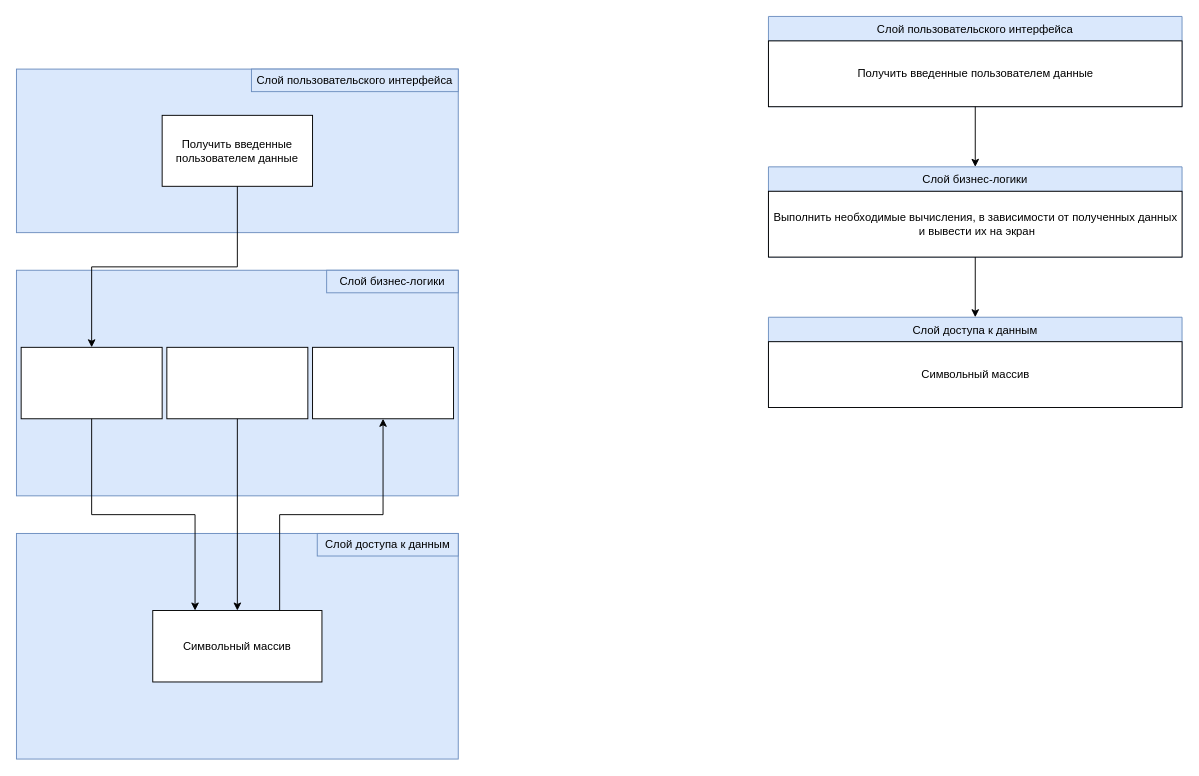
This 1199x776 diagram has some shape labels left out. The centre of each missing label's shape, as x and y in pixels:
"Вывод результата" belongs at (383,382).
"Вычисление выражения" belongs at (237,382).
"Проверка введенных данных" belongs at (91,382).
